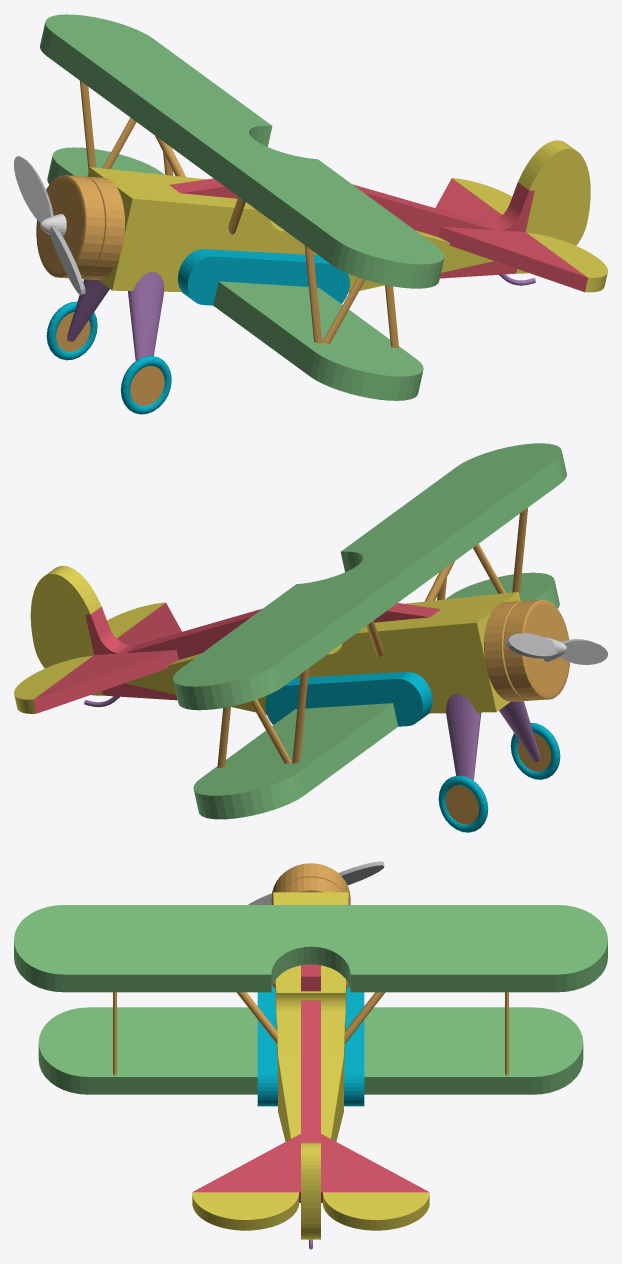
Rendered from flugzeug bunt.glb.
3 views of the same model, one above another, from view 1: azimuth 30°, elevation 25°; view 2: azimuth 150°, elevation 25°; view 3: azimuth 270°, elevation 25° (orthographic). The views are drawn at different scales.
Parts seen in each view (by area): view 1: Mesh_Mesh_head_geo.001_lambert2SG.001; view 2: Mesh_Mesh_head_geo.001_lambert2SG.001; view 3: Mesh_Mesh_head_geo.001_lambert2SG.001.
Part boxes in pixels (<box>): Mesh_Mesh_head_geo.001_lambert2SG.001: <box>14,14,607,414</box>; Mesh_Mesh_head_geo.001_lambert2SG.001: <box>14,443,607,832</box>; Mesh_Mesh_head_geo.001_lambert2SG.001: <box>14,861,607,1249</box>.
Size of the model in its own units: 0.1201 by 0.0483 by 0.13.
